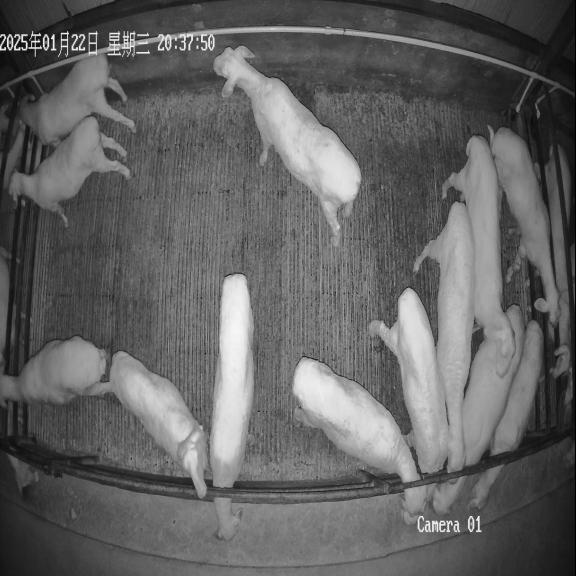drinking: (18, 54, 135, 144)
eating: (292, 357, 428, 524), (432, 305, 525, 513), (369, 288, 448, 502), (469, 320, 544, 510), (209, 273, 254, 540)
stand: (213, 45, 361, 246), (441, 135, 515, 377), (415, 202, 474, 472), (109, 351, 207, 498), (490, 127, 559, 325), (9, 116, 129, 228), (0, 336, 109, 405)
